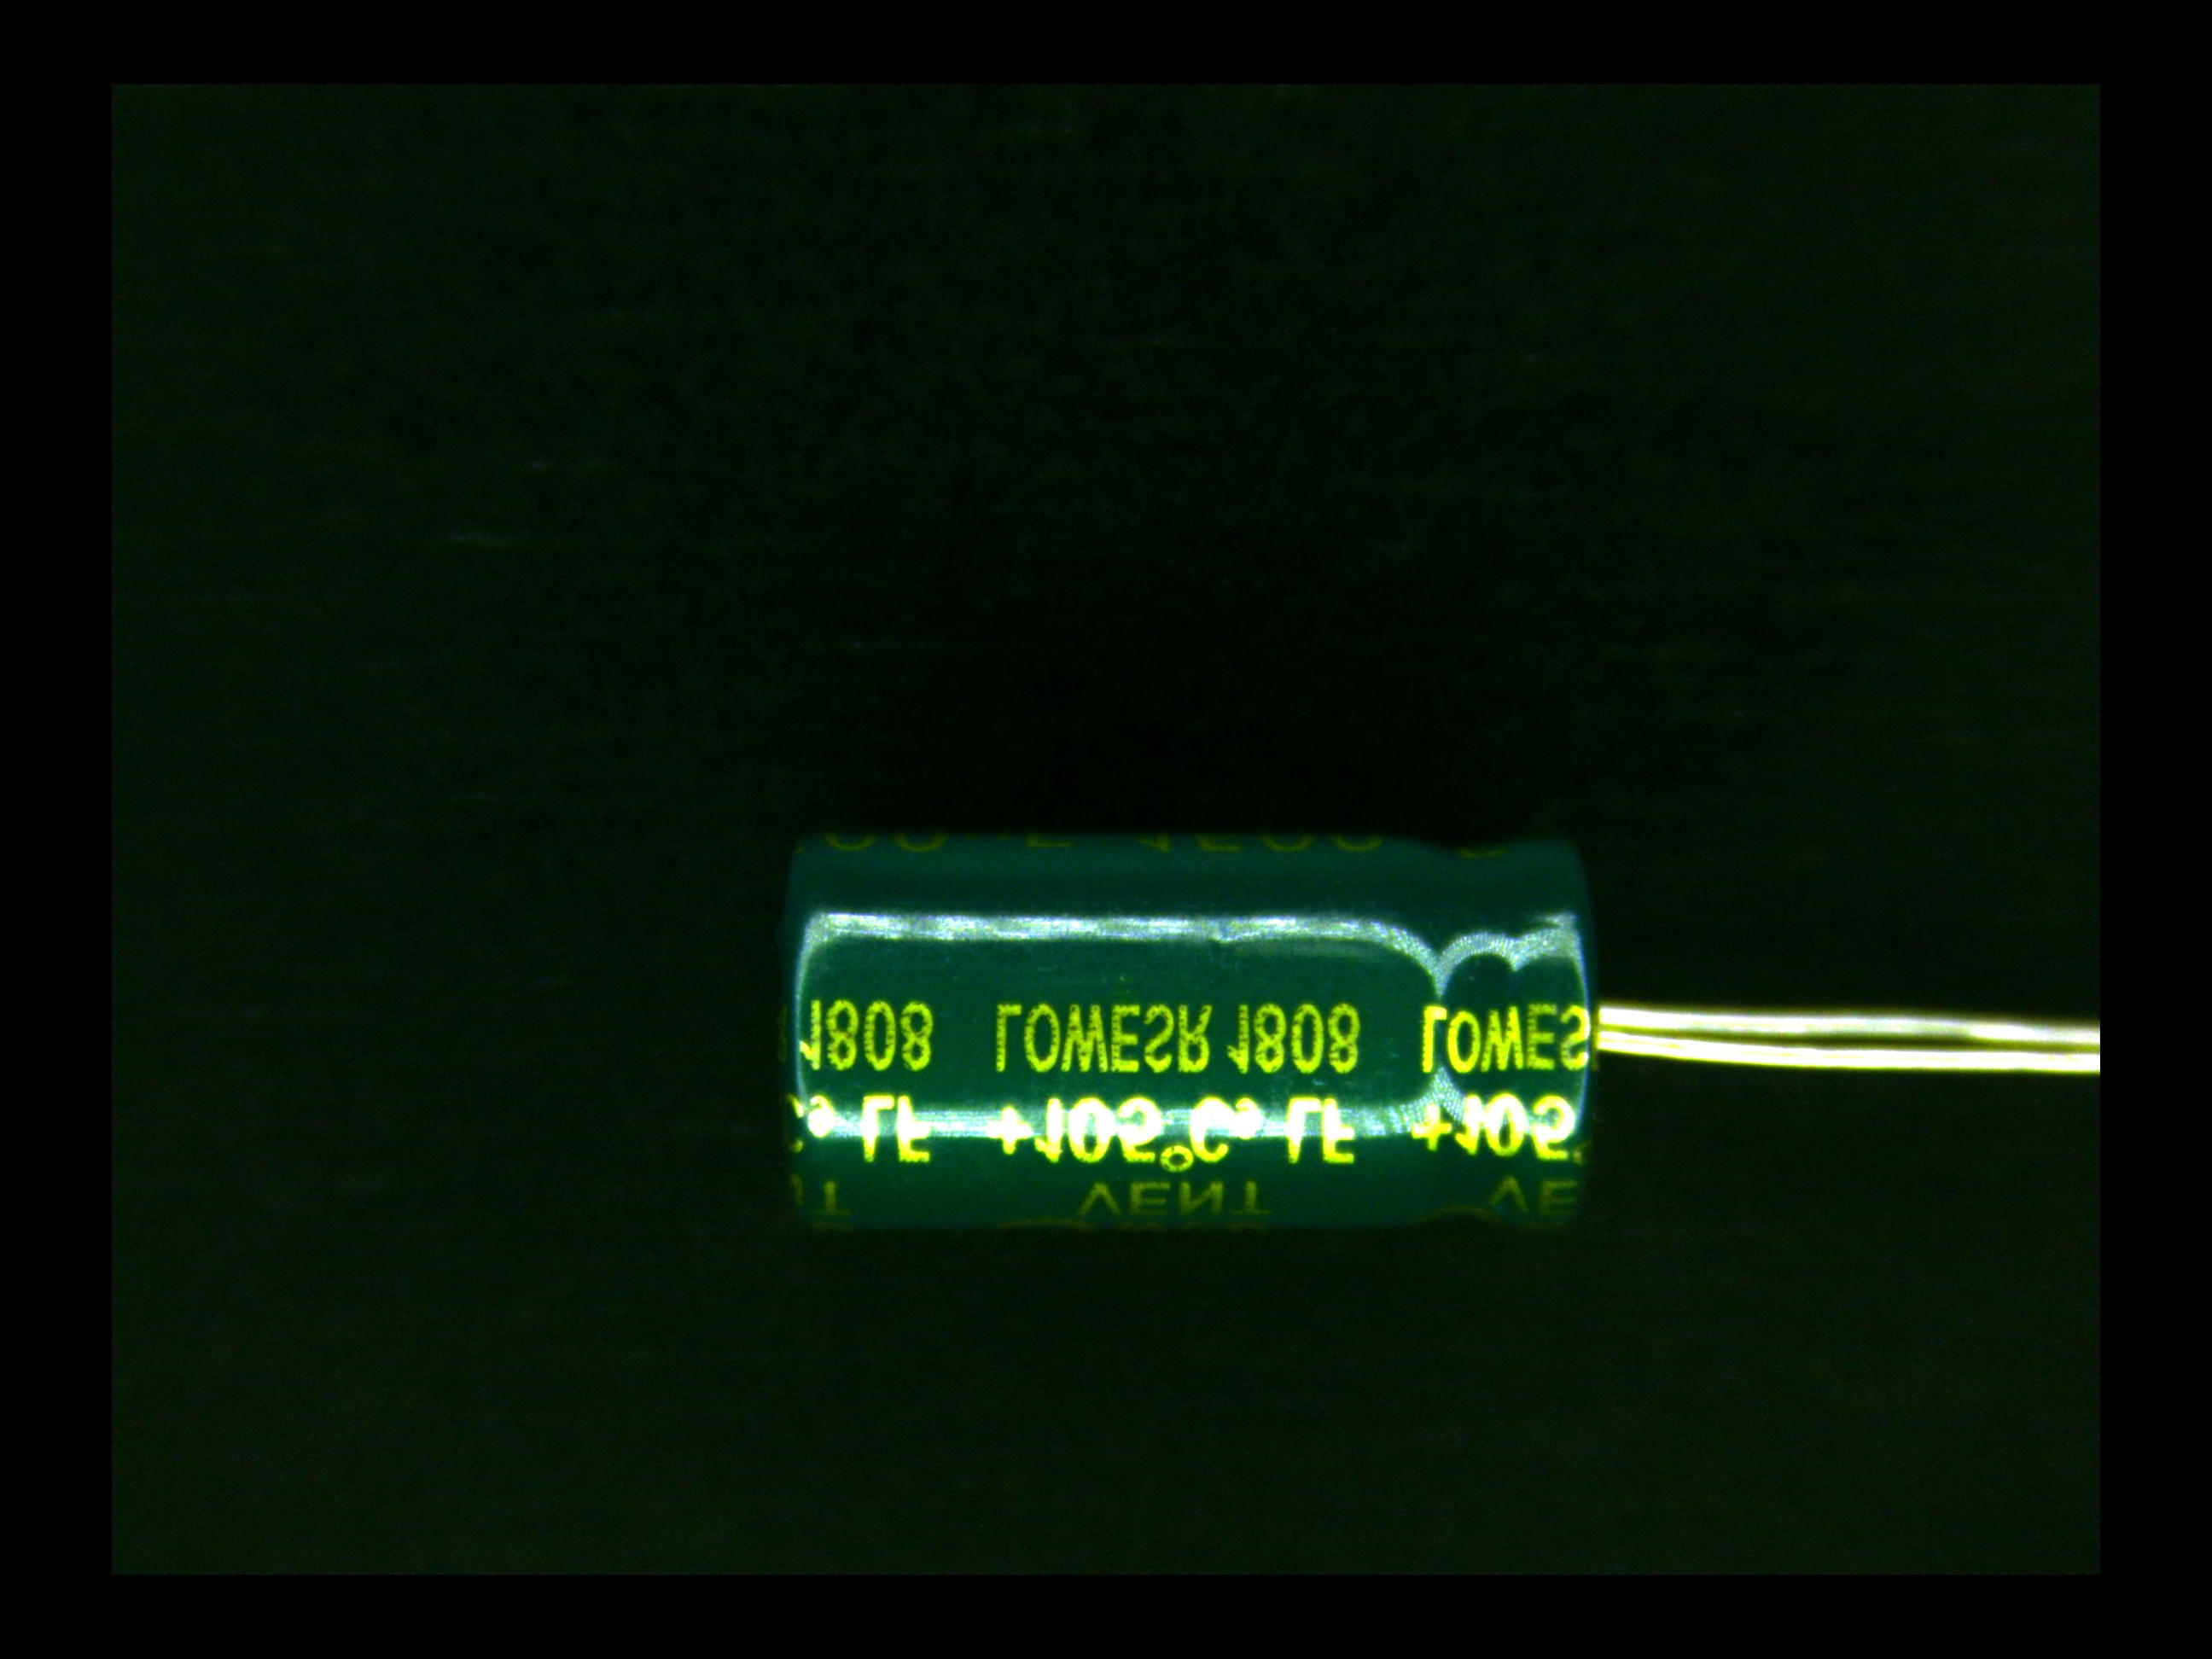c1: (772, 824, 1688, 1216)
